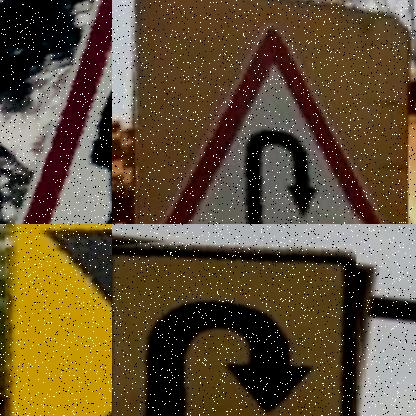Sharp Right Turn: (10, 224, 112, 416)
U-Turn: (136, 0, 406, 224), (146, 27, 365, 224), (112, 247, 354, 416)
